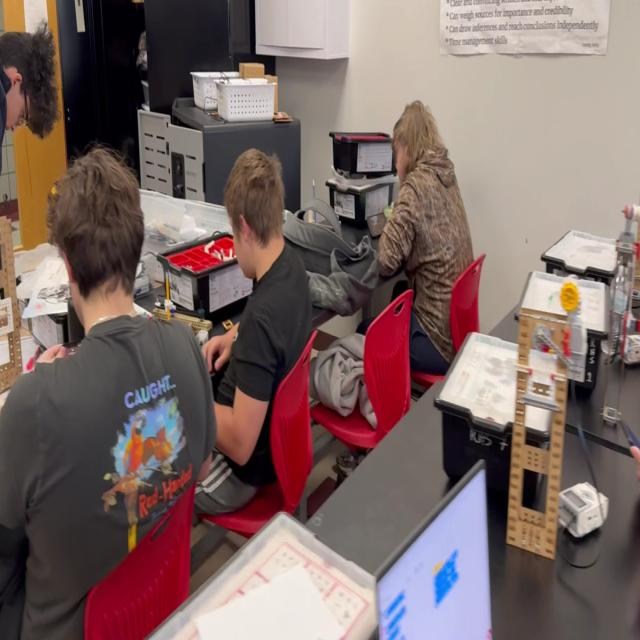pen: (621, 418, 640, 465), (366, 212, 389, 239)
